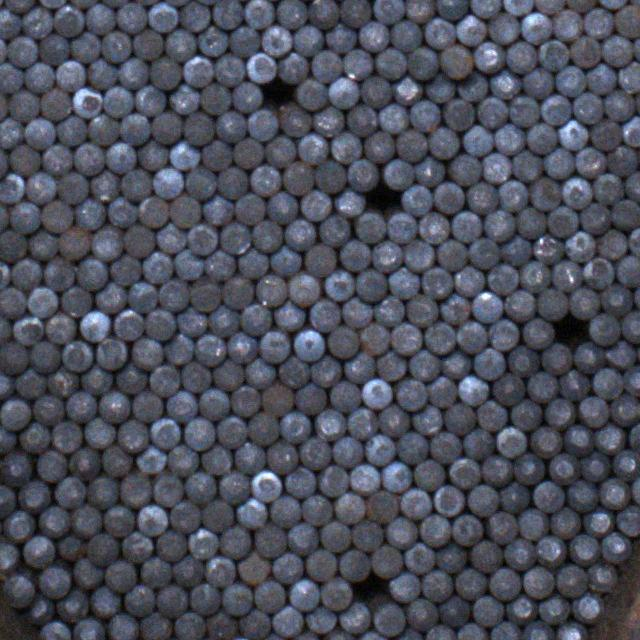tool: (118, 472, 152, 508), (470, 346, 506, 380), (446, 152, 482, 186), (235, 550, 270, 584), (151, 472, 185, 507), (273, 298, 309, 331), (122, 583, 156, 617), (67, 502, 101, 536), (570, 591, 604, 625), (277, 354, 311, 388), (44, 312, 78, 346), (238, 302, 272, 336), (41, 256, 75, 290), (566, 286, 600, 320), (354, 268, 388, 302), (336, 600, 372, 632), (102, 560, 138, 592), (218, 276, 254, 308), (285, 274, 321, 306), (336, 240, 372, 272), (314, 159, 346, 195), (287, 578, 321, 611), (420, 570, 453, 604), (171, 552, 204, 586), (338, 548, 371, 582), (36, 505, 69, 539), (199, 499, 233, 532), (554, 564, 588, 597), (292, 329, 326, 362), (20, 4, 53, 38), (216, 165, 250, 198), (281, 160, 314, 194), (329, 130, 362, 164), (103, 503, 135, 538), (266, 439, 298, 474), (183, 416, 215, 451), (479, 454, 514, 486), (310, 352, 342, 387), (505, 344, 540, 376), (469, 291, 504, 323), (449, 210, 484, 242), (439, 46, 474, 78), (36, 568, 72, 599), (485, 511, 518, 544), (476, 398, 509, 431), (184, 166, 217, 199), (357, 19, 390, 52), (237, 608, 271, 640), (372, 604, 406, 636), (54, 588, 88, 620), (88, 586, 122, 618), (154, 584, 188, 616), (252, 580, 286, 612), (304, 548, 338, 580), (370, 544, 402, 578), (120, 530, 152, 564), (134, 504, 168, 536), (300, 494, 334, 526), (86, 474, 118, 508), (184, 472, 218, 504), (0, 452, 32, 486), (298, 436, 332, 468), (49, 420, 83, 452), (522, 564, 554, 598), (398, 488, 432, 520), (532, 480, 566, 512), (442, 402, 476, 434), (509, 398, 543, 430), (97, 391, 131, 423), (261, 382, 293, 416), (194, 334, 228, 366), (258, 328, 290, 362), (12, 313, 44, 347), (8, 257, 42, 289), (294, 382, 328, 414), (558, 368, 592, 400), (407, 348, 441, 380), (390, 321, 422, 355), (423, 322, 457, 354), (308, 298, 342, 330), (404, 294, 438, 326), (601, 282, 633, 316), (321, 269, 355, 301), (486, 263, 520, 295), (550, 258, 584, 290), (304, 243, 336, 277), (514, 206, 548, 238), (464, 182, 498, 214), (58, 170, 90, 204), (130, 28, 164, 60), (345, 159, 379, 191), (362, 131, 396, 163), (426, 126, 460, 158), (212, 110, 246, 142), (310, 49, 344, 81), (406, 46, 438, 80), (506, 38, 538, 72), (164, 28, 196, 62), (600, 34, 632, 68), (0, 396, 31, 431), (316, 216, 351, 247), (406, 598, 439, 630), (270, 552, 303, 584), (286, 522, 319, 554), (384, 516, 417, 548), (418, 514, 451, 546), (167, 444, 200, 476), (116, 418, 148, 451), (488, 567, 520, 600), (503, 538, 536, 570), (600, 532, 633, 564), (582, 505, 615, 537), (467, 484, 499, 517), (448, 456, 480, 489), (429, 431, 462, 463), (578, 395, 610, 428), (147, 364, 180, 396), (213, 358, 245, 391), (245, 357, 278, 389), (29, 340, 62, 372), (174, 304, 207, 336), (108, 253, 140, 286), (270, 244, 302, 277), (202, 192, 234, 225), (332, 186, 365, 218), (529, 177, 561, 210), (120, 168, 153, 200), (8, 143, 41, 175), (24, 117, 56, 150), (119, 112, 151, 145), (52, 3, 84, 36), (311, 106, 344, 138), (166, 82, 199, 114), (359, 76, 392, 108), (16, 480, 50, 511), (198, 443, 232, 474), (148, 417, 182, 448), (492, 426, 526, 457), (46, 366, 80, 397), (41, 198, 72, 232), (522, 316, 553, 350), (298, 190, 332, 221), (346, 102, 377, 136), (194, 25, 228, 56), (178, 0, 212, 31), (0, 576, 35, 606), (469, 540, 504, 570), (189, 584, 221, 616), (86, 533, 118, 565), (219, 526, 251, 558), (254, 524, 286, 556), (168, 501, 200, 533), (269, 494, 301, 526), (366, 490, 398, 522), (52, 476, 84, 508), (284, 466, 316, 498), (380, 460, 412, 492), (332, 435, 364, 467), (364, 434, 396, 466), (396, 431, 428, 463), (246, 412, 278, 444), (278, 411, 310, 443), (314, 408, 346, 440), (378, 404, 410, 436), (568, 534, 600, 566), (452, 513, 484, 545), (566, 479, 598, 511), (562, 424, 594, 456), (594, 422, 626, 454), (206, 304, 238, 336), (26, 286, 58, 318), (188, 278, 220, 310), (76, 257, 108, 289), (141, 251, 173, 283), (27, 228, 59, 260), (58, 228, 90, 260), (90, 228, 122, 260), (123, 224, 155, 256), (218, 221, 250, 253), (252, 219, 284, 251), (8, 201, 40, 233), (266, 190, 298, 222), (342, 352, 374, 384), (541, 342, 573, 374), (389, 266, 421, 298), (354, 210, 386, 242), (386, 212, 418, 244), (547, 205, 579, 237), (401, 183, 433, 215), (90, 168, 122, 200), (41, 142, 73, 174), (86, 114, 118, 146), (8, 89, 40, 121), (249, 164, 281, 196), (297, 132, 329, 164), (180, 112, 212, 144), (198, 82, 230, 114), (230, 81, 262, 113), (150, 57, 182, 89), (212, 54, 244, 86), (276, 52, 308, 84), (488, 12, 520, 44), (572, 91, 604, 123), (604, 89, 636, 121), (586, 62, 618, 94), (568, 36, 600, 68), (321, 578, 354, 609), (187, 527, 218, 560), (234, 498, 267, 529), (537, 593, 570, 624), (61, 339, 92, 372), (421, 267, 454, 298), (263, 135, 296, 166), (409, 100, 442, 131), (20, 594, 54, 624), (154, 530, 188, 560), (66, 449, 100, 479), (503, 594, 537, 624), (588, 560, 618, 594), (491, 374, 525, 404), (589, 312, 619, 346), (503, 290, 537, 320), (537, 286, 567, 320), (435, 240, 469, 270), (532, 233, 566, 263), (376, 46, 406, 80), (389, 570, 420, 602), (204, 556, 236, 587), (3, 512, 34, 544), (333, 493, 365, 524), (233, 442, 265, 473), (454, 568, 486, 599), (548, 507, 580, 538), (578, 451, 610, 482), (411, 403, 442, 435), (544, 396, 575, 428), (115, 361, 146, 393), (95, 281, 126, 313), (172, 248, 203, 280), (138, 196, 170, 227), (329, 381, 361, 412), (526, 371, 558, 402), (591, 367, 623, 398), (326, 326, 358, 357), (358, 322, 389, 354), (457, 321, 488, 353), (340, 297, 372, 328), (372, 296, 403, 328), (583, 257, 614, 289), (403, 240, 435, 271), (285, 220, 316, 252), (418, 212, 449, 244), (74, 142, 105, 174), (105, 141, 136, 173), (71, 86, 102, 118), (86, 58, 118, 89), (38, 33, 70, 64), (461, 125, 493, 156), (476, 96, 507, 128), (508, 94, 539, 126), (540, 94, 572, 125), (522, 66, 554, 97), (472, 42, 504, 73), (455, 14, 486, 46), (572, 147, 604, 178), (204, 610, 237, 640), (139, 557, 172, 587), (249, 470, 282, 500), (347, 464, 380, 494), (133, 444, 166, 474), (215, 416, 248, 446), (518, 508, 548, 541), (529, 426, 562, 456), (32, 394, 65, 424), (165, 390, 198, 420), (14, 368, 47, 398), (160, 334, 193, 364), (203, 250, 236, 280), (154, 223, 187, 253), (170, 194, 200, 227), (231, 138, 264, 168), (489, 68, 522, 98), (389, 20, 422, 50), (148, 1, 178, 34), (84, 418, 118, 447), (611, 392, 640, 426), (95, 338, 126, 369), (605, 339, 636, 370), (372, 241, 403, 272), (7, 35, 38, 66), (272, 606, 304, 636), (304, 603, 336, 633), (221, 584, 253, 614), (70, 559, 102, 589), (404, 542, 434, 574), (22, 536, 54, 566), (54, 532, 84, 564), (320, 520, 350, 552), (350, 520, 382, 550), (316, 466, 348, 496), (348, 408, 378, 440), (439, 596, 471, 626), (536, 534, 566, 566), (498, 482, 530, 512), (412, 459, 444, 489), (462, 428, 494, 458), (132, 392, 164, 422), (198, 388, 228, 420), (230, 386, 262, 416), (79, 364, 111, 394), (180, 362, 212, 392), (0, 342, 30, 374), (132, 337, 162, 369), (78, 312, 110, 342), (113, 310, 145, 340), (126, 282, 158, 312), (256, 275, 286, 307), (238, 248, 270, 278), (188, 223, 218, 255), (74, 198, 104, 230), (106, 196, 136, 228), (234, 192, 264, 224), (456, 375, 488, 405), (374, 352, 406, 382), (573, 342, 605, 372), (438, 292, 468, 324), (454, 266, 486, 296), (483, 210, 515, 240), (580, 202, 610, 234), (434, 182, 464, 214), (562, 176, 592, 208), (592, 174, 624, 204), (26, 171, 56, 203), (41, 88, 71, 120), (119, 57, 149, 89), (116, 1, 146, 33), (154, 167, 184, 199), (382, 159, 412, 191), (136, 140, 168, 170), (200, 140, 232, 170), (395, 130, 427, 160), (493, 124, 525, 154), (526, 123, 558, 153), (151, 110, 181, 142), (378, 102, 408, 134), (442, 98, 474, 128), (326, 77, 358, 107), (392, 75, 424, 105), (456, 70, 488, 100), (245, 54, 277, 84), (342, 48, 374, 78), (228, 24, 260, 54), (259, 25, 291, 55), (324, 22, 356, 52), (520, 12, 552, 42), (606, 146, 638, 176), (590, 117, 620, 149), (556, 66, 586, 98), (552, 10, 584, 40), (583, 7, 613, 39), (611, 448, 640, 481), (138, 612, 172, 640), (512, 454, 546, 482), (220, 472, 250, 503), (433, 486, 464, 516), (549, 452, 579, 483), (144, 310, 175, 340), (61, 286, 92, 316), (159, 279, 189, 310), (488, 319, 518, 350), (469, 238, 500, 268), (501, 234, 532, 264), (511, 150, 542, 180), (247, 110, 278, 140), (296, 80, 327, 110), (424, 71, 454, 102), (292, 25, 322, 56), (542, 149, 572, 180), (558, 119, 588, 150), (174, 611, 206, 640), (520, 262, 552, 291), (611, 198, 640, 230), (134, 86, 166, 115), (435, 544, 468, 572), (274, 0, 307, 28), (307, 0, 340, 28), (36, 452, 66, 482), (102, 446, 132, 476), (18, 422, 48, 452), (473, 596, 503, 626), (599, 478, 629, 508), (66, 392, 96, 422), (228, 332, 258, 362), (362, 379, 392, 409), (396, 380, 426, 410), (566, 230, 596, 260), (596, 228, 626, 258), (56, 115, 86, 145), (102, 86, 132, 116), (25, 62, 55, 92), (56, 61, 86, 91), (70, 30, 100, 60), (100, 32, 130, 62), (86, 4, 116, 34), (182, 56, 212, 86), (425, 18, 455, 48), (481, 152, 510, 183), (539, 40, 568, 71), (442, 347, 470, 379), (499, 180, 527, 212), (413, 157, 445, 185), (278, 107, 310, 135), (242, 0, 274, 28), (105, 613, 138, 640), (427, 377, 456, 407), (168, 140, 199, 168), (212, 0, 243, 28), (0, 230, 27, 262), (0, 286, 26, 318), (614, 4, 640, 36), (615, 255, 640, 288), (340, 0, 371, 26), (615, 504, 640, 536), (0, 172, 25, 203), (0, 116, 24, 148), (553, 619, 589, 640), (0, 62, 24, 93), (617, 60, 640, 92), (373, 0, 404, 23), (73, 618, 105, 640), (404, 0, 437, 21), (37, 620, 71, 640), (490, 620, 522, 640), (522, 620, 554, 640), (620, 311, 640, 343), (456, 622, 489, 640), (0, 8, 20, 37), (0, 540, 18, 572), (469, 0, 502, 17), (620, 118, 640, 146), (437, 0, 468, 18), (0, 366, 15, 401), (0, 485, 16, 517), (0, 424, 17, 454), (424, 625, 456, 640), (502, 0, 534, 15), (624, 366, 640, 394), (626, 170, 640, 200), (534, 0, 566, 13), (0, 314, 12, 346), (3, 0, 35, 12)
void: (544, 304, 600, 356), (365, 182, 403, 216), (352, 574, 392, 605), (262, 78, 294, 112)
